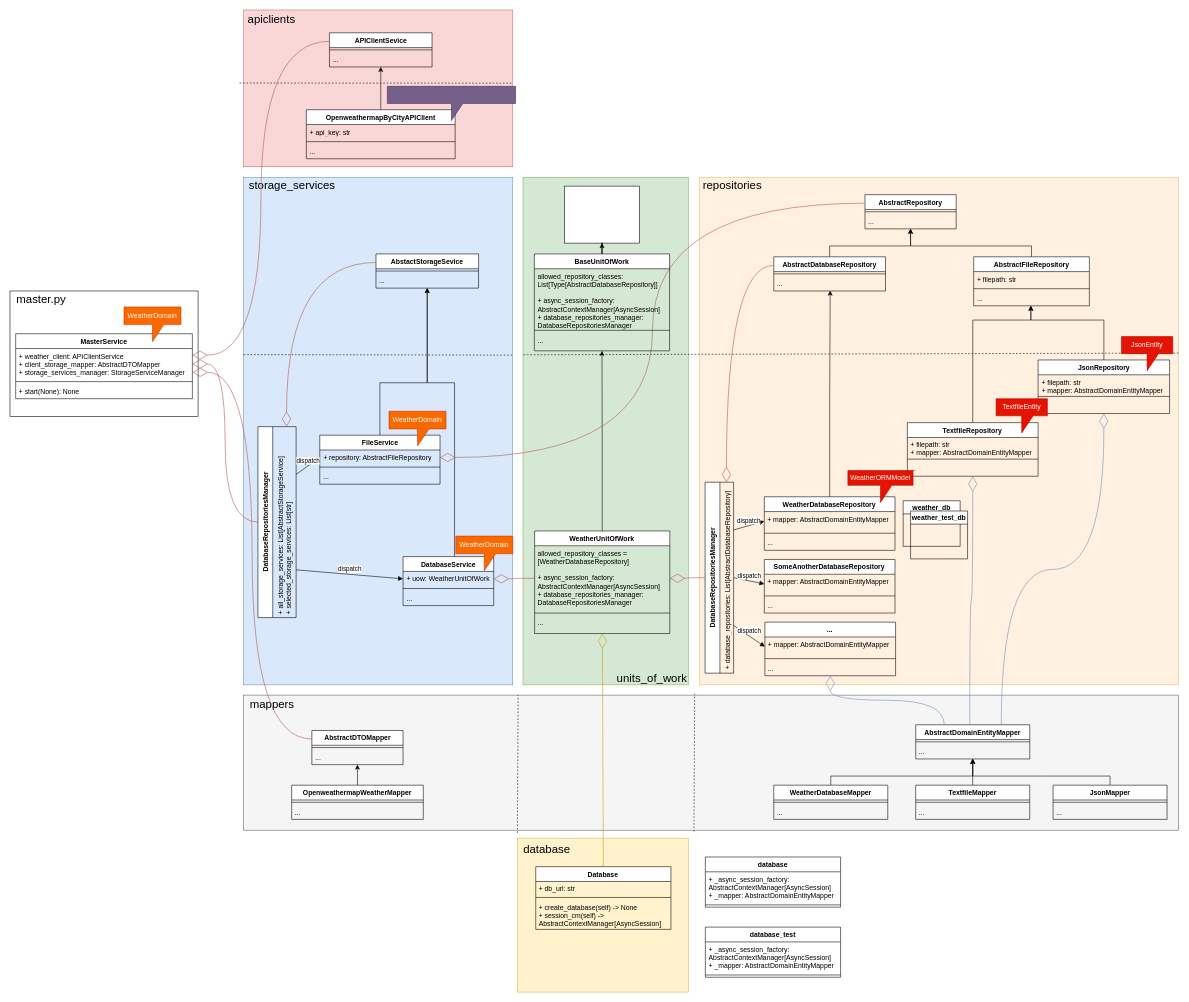
This 1189x1002 diagram has some shape labels left out. The centre of each missing label's shape, as x and y in pixels:
<<Interface>> IUnitOfWork ...: the point at 601,214
JsonOpenweathermapResponseDTO: the point at 451,103
